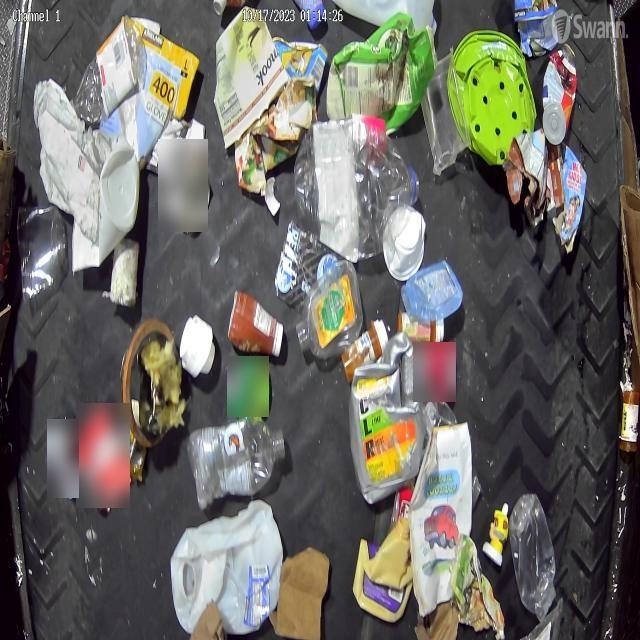milk_jug: (170, 500, 284, 634)
non_white_jug: (350, 332, 424, 504)
plastic_bottle: (188, 420, 286, 510)
